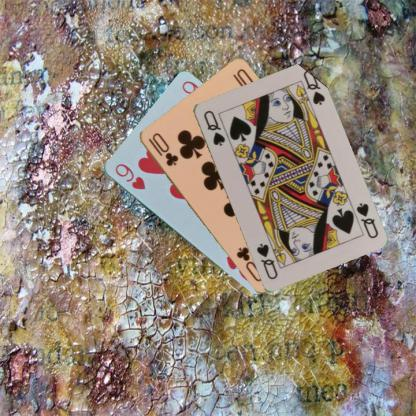10c: (145, 130, 180, 168)
9h: (110, 161, 147, 191)
Qs: (352, 200, 379, 240), (200, 108, 226, 148)
